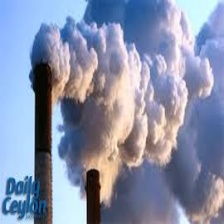smoke: (35, 3, 217, 176)
